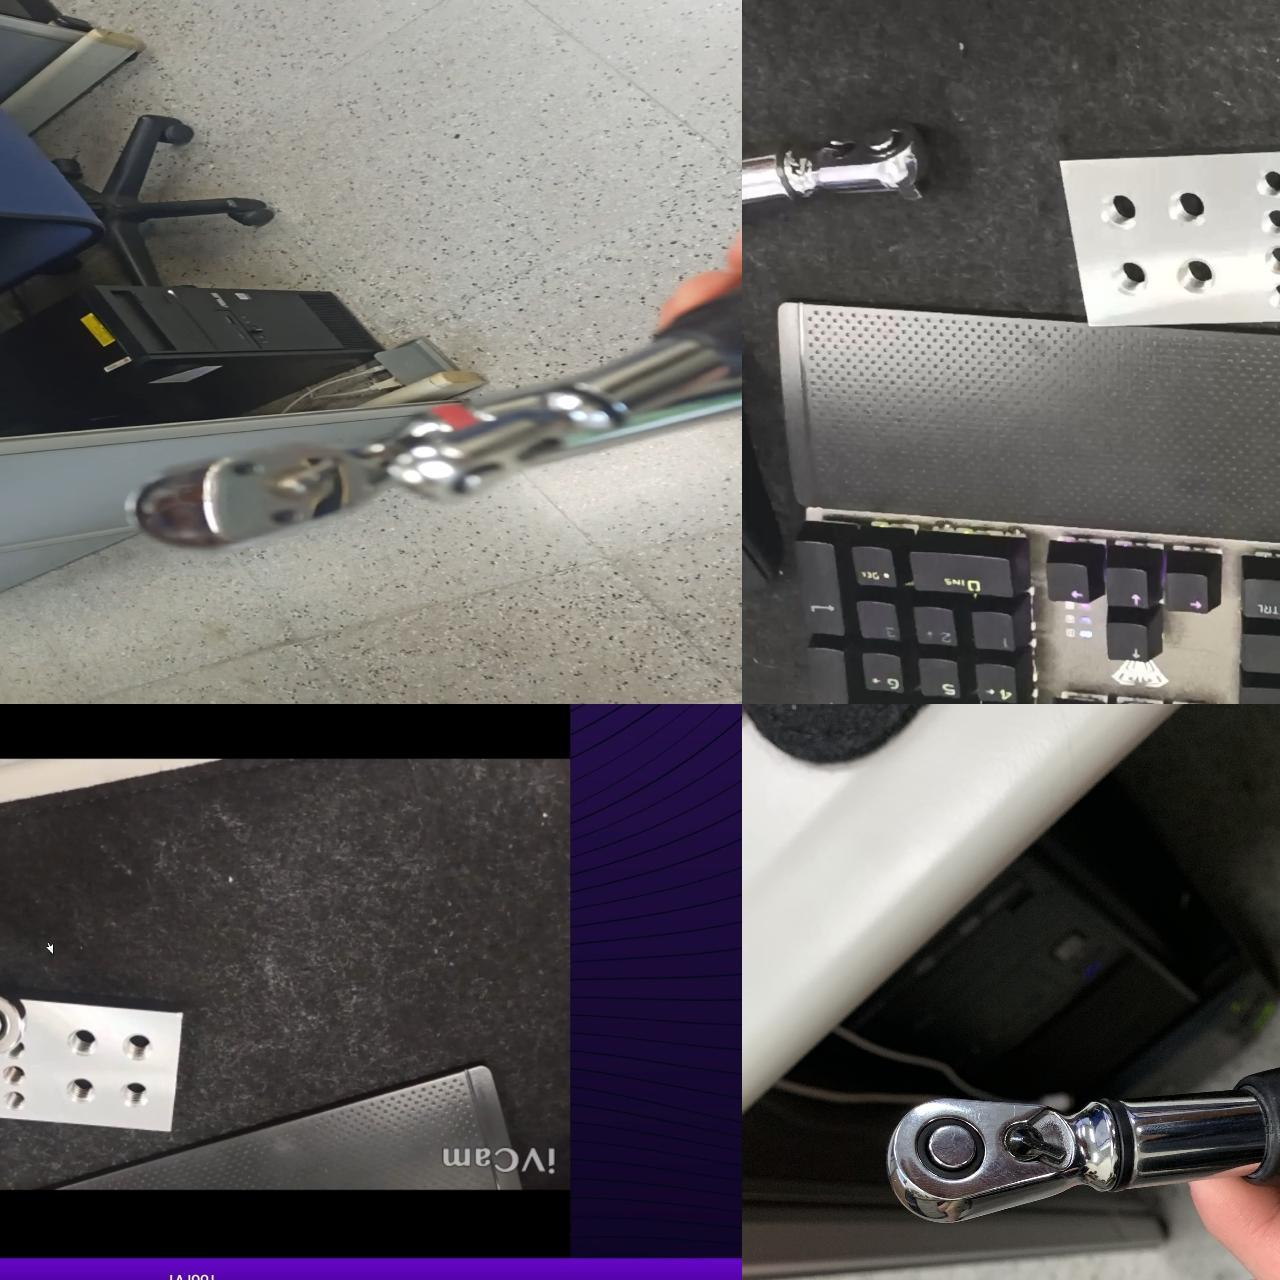Tool: (888, 1092, 1124, 1226), (783, 111, 940, 211), (0, 956, 26, 1057)
